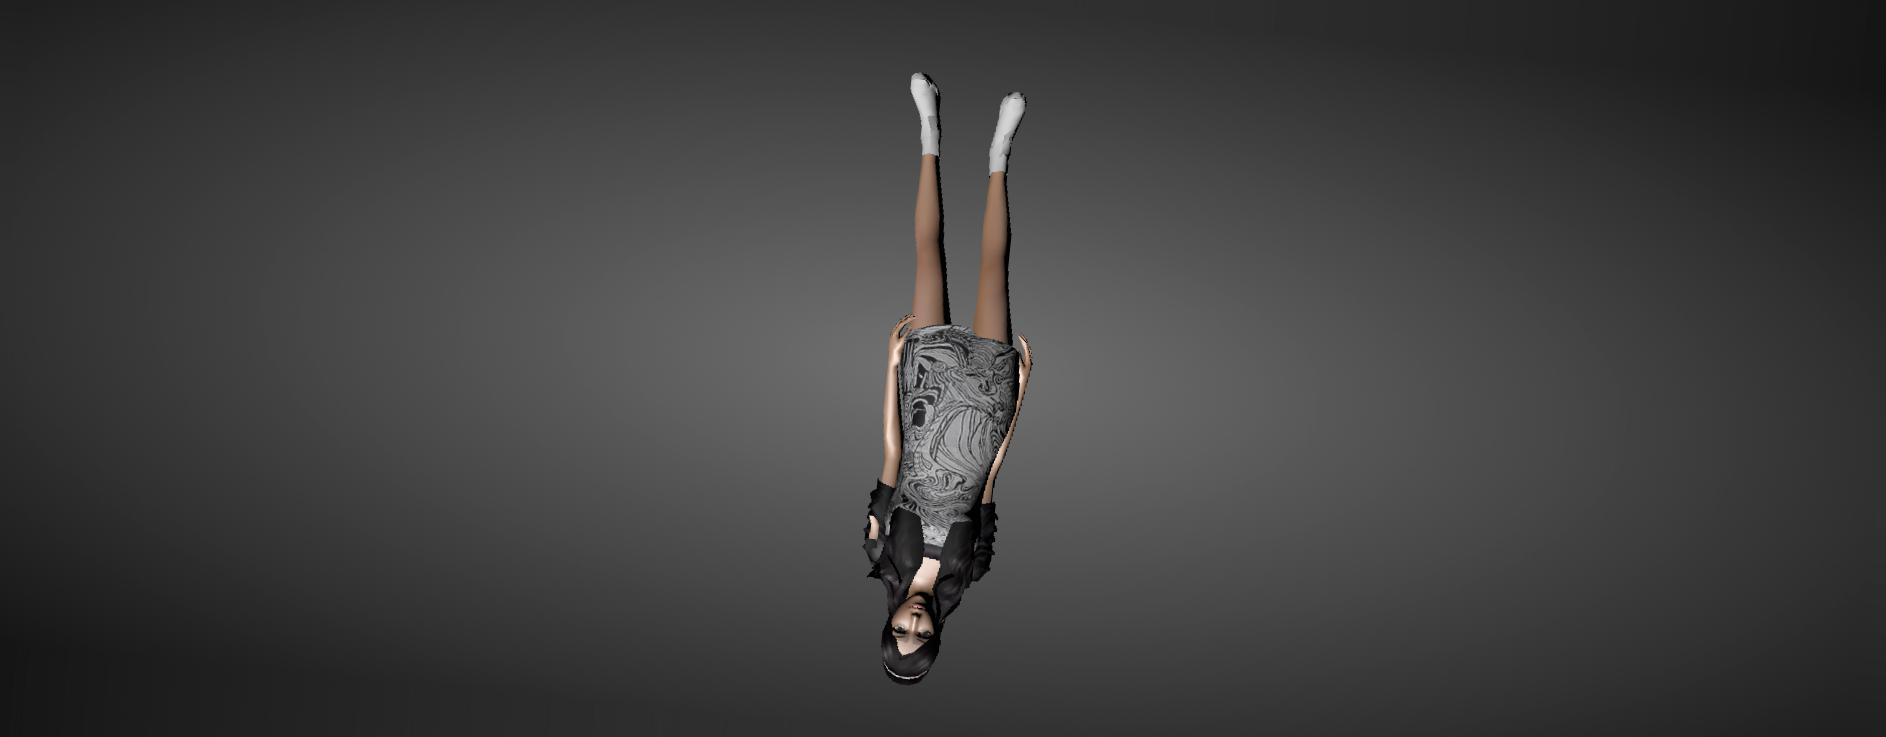clip: (865, 515, 882, 546)
